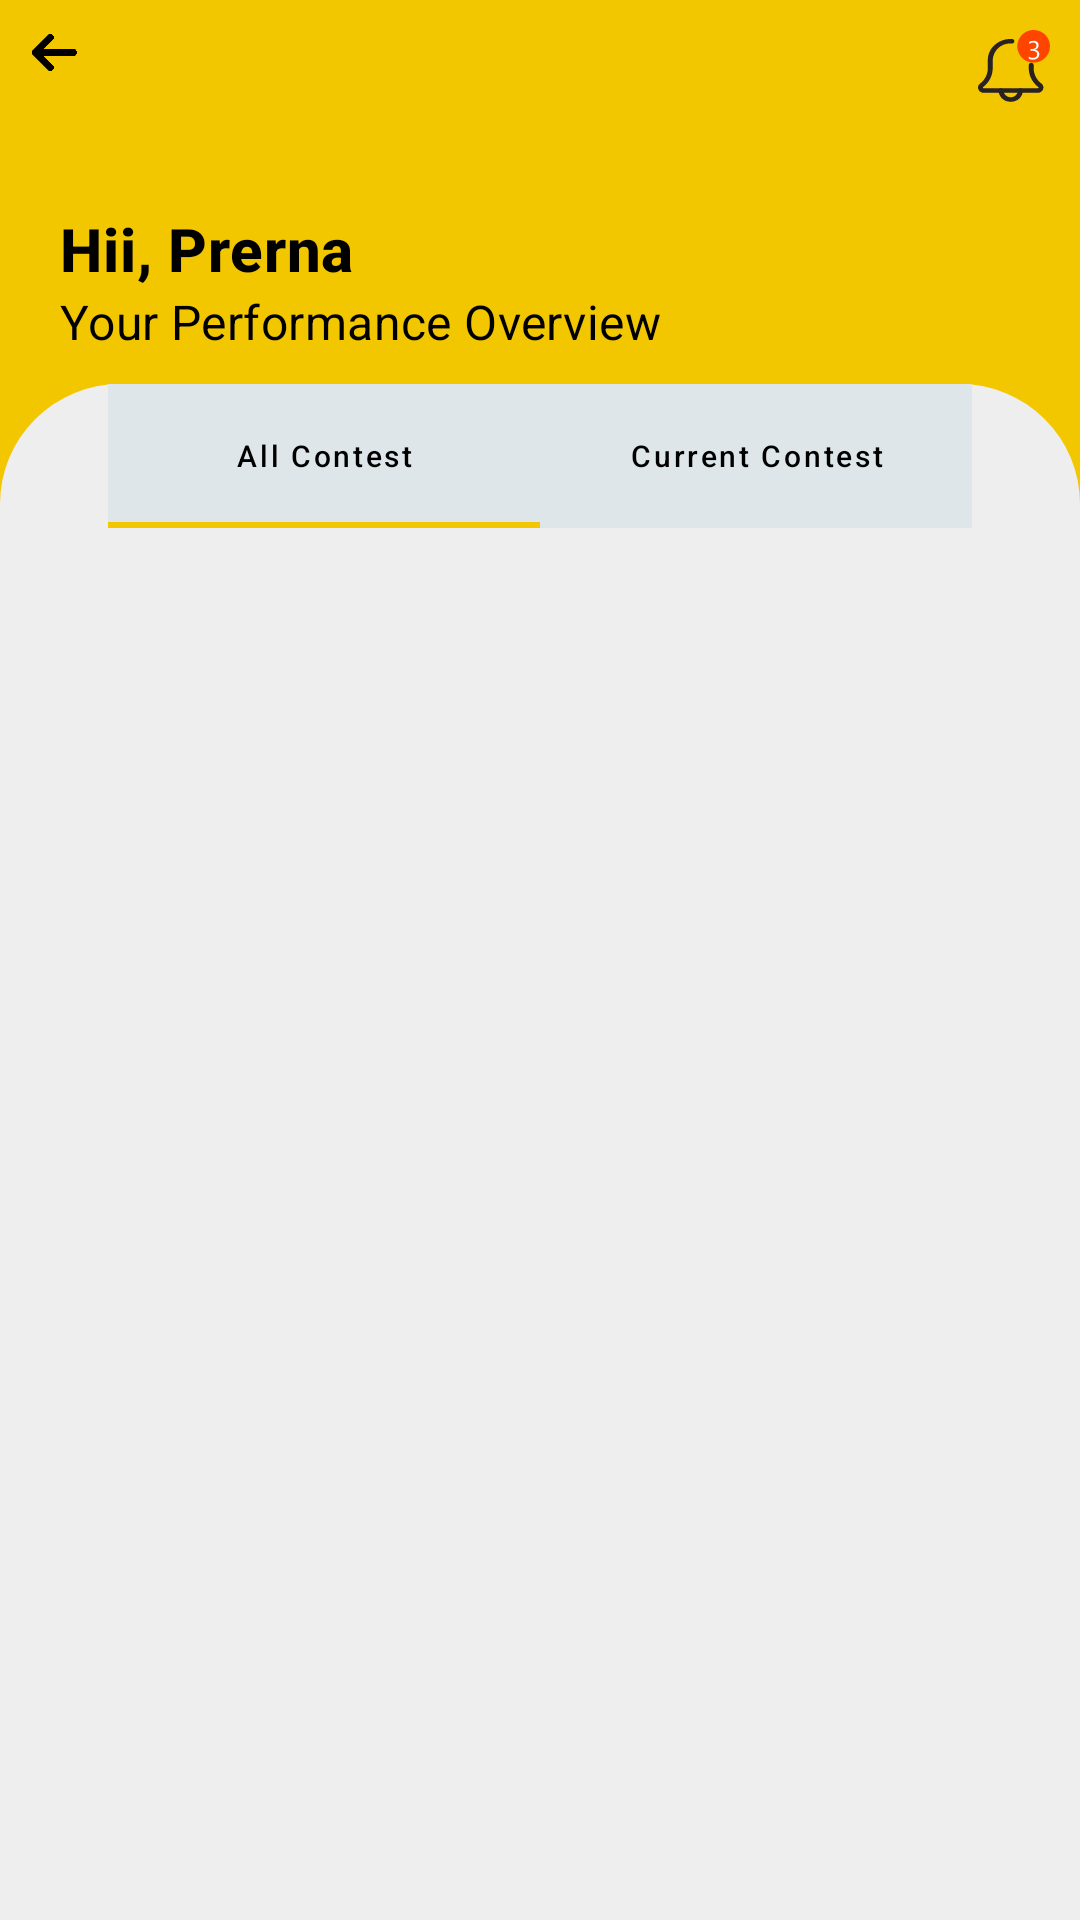

Where icons sit on this 1080x1920 app screen, as (x1, y1, x2, y2):
back arrow: (32, 34, 77, 71)
notification: (978, 30, 1050, 102)
